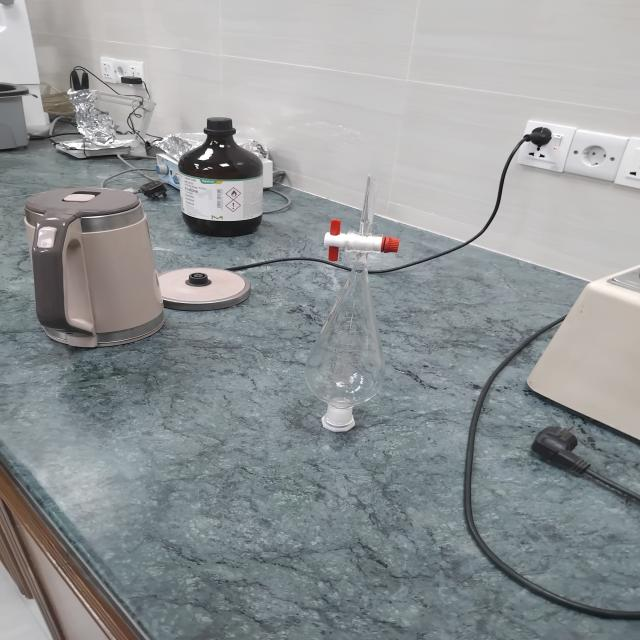Separating_Funnel: (292, 154, 410, 454)
